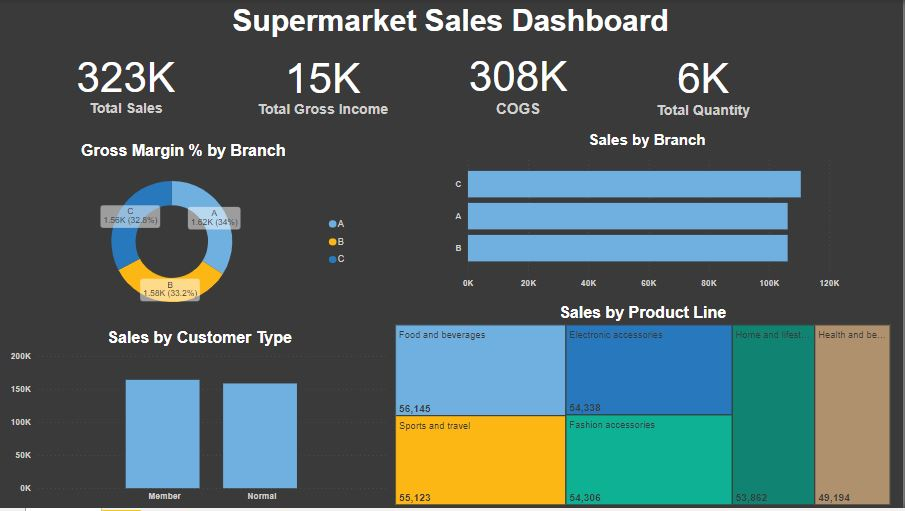

What the dashboard file says about the page in this screenshot:
{"tool":"powerbi","page":{"name":"Page 1","canvas":[1280,720],"ordinal":0},"visuals":[{"type":"card","fields":{"Values":["Sum(supermarket_sales - Sheet1.gross income)"]},"box":[320.8,47,277.2,139.4],"z":0},{"type":"card","fields":{"Values":["Sum(supermarket_sales - Sheet1.cogs)"]},"box":[598,43.7,275.5,142.8],"z":1000},{"type":"card","fields":{"Values":["Sum(supermarket_sales - Sheet1.Total)"]},"box":[53.3,47.5,252,133.9],"z":2000},{"type":"card","fields":{"Values":["Sum(supermarket_sales - Sheet1.Quantity)"]},"box":[856.7,58.8,283.9,117.6],"z":3000},{"type":"clusteredBarChart","title":"Sales by Branch","fields":{"Category":["supermarket_sales - Sheet1.Branch"],"Y":["Sum(supermarket_sales - Sheet1.Total)"]},"box":[640.6,187.1,555.6,229.6],"z":4000},{"type":"donutChart","title":"Gross Margin % by Branch","fields":{"Category":["supermarket_sales - Sheet1.Branch"],"Y":["Sum(supermarket_sales - Sheet1.gross margin percentage)"]},"box":[18.5,199.9,485.5,258.7],"z":5000},{"type":"columnChart","title":"Sales by Customer Type","fields":{"Category":["supermarket_sales - Sheet1.Customer type"],"Y":["Sum(supermarket_sales - Sheet1.Total)"]},"box":[11.8,465.3,545.9,255.3],"z":6000},{"type":"treemap","title":"Sales by Product Line","fields":{"Values":["Sum(supermarket_sales - Sheet1.Total)"],"Group":["supermarket_sales - Sheet1.Product line"]},"box":[557.7,430,710.6,290.6],"z":7000},{"type":"textbox","box":[0,0,1280,65.5],"z":8000}]}

Visuals, with their boxes in screenshot pixels (x1, y1, x2, y2), scaled from the page's 1280x720 canvas onto the 905x511 screenshot:
card - Sum(supermarket_sales - Sheet1.gross income): (227,33,423,132)
card - Sum(supermarket_sales - Sheet1.cogs): (423,31,618,132)
card - Sum(supermarket_sales - Sheet1.Total): (38,34,216,129)
card - Sum(supermarket_sales - Sheet1.Quantity): (606,42,806,125)
"Sales by Branch" clusteredBarChart: (453,133,846,296)
"Gross Margin % by Branch" donutChart: (13,142,356,325)
"Sales by Customer Type" columnChart: (8,330,394,510)
"Sales by Product Line" treemap: (394,305,897,510)
textbox: (0,0,904,46)
